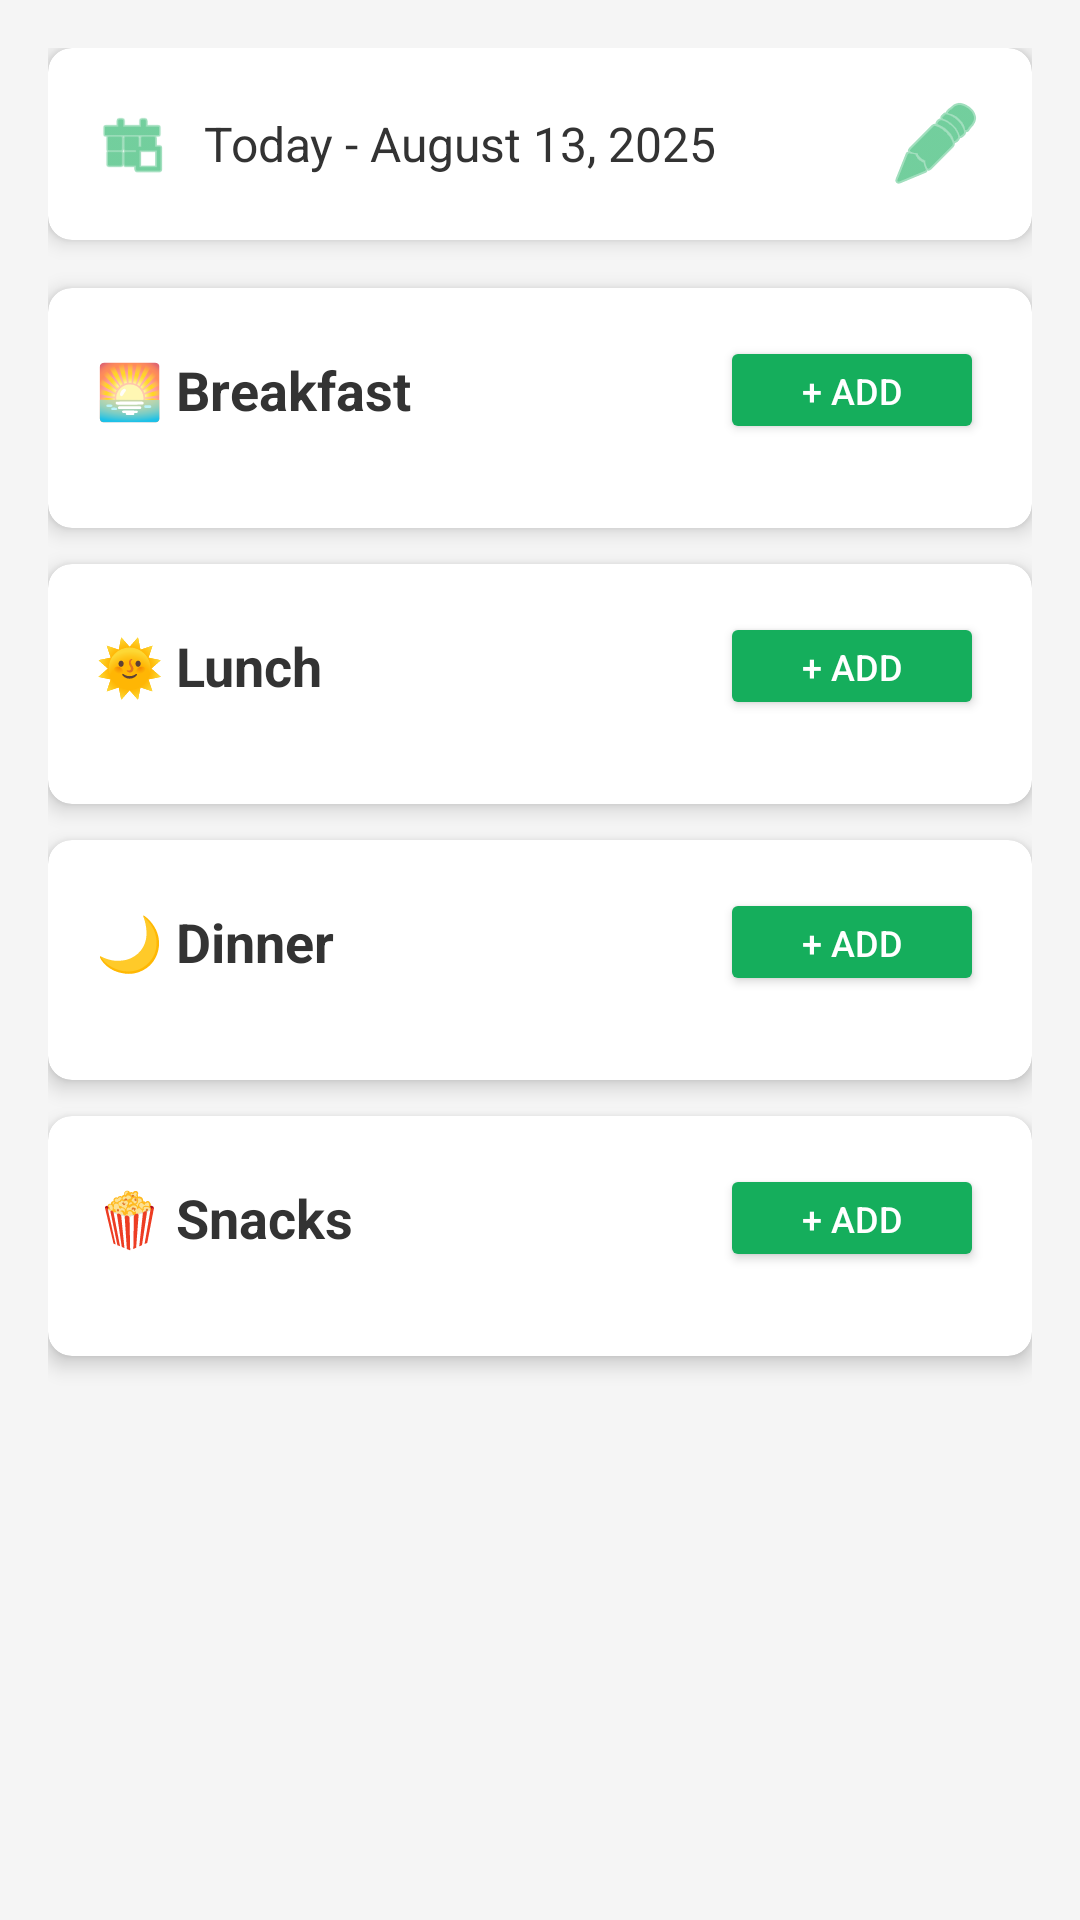

Named icons in this screenshot (1080px×1920px) and their bounding boxes, BBox(x1, y1, x2, y2):
edit: BBox(895, 103, 976, 184)
